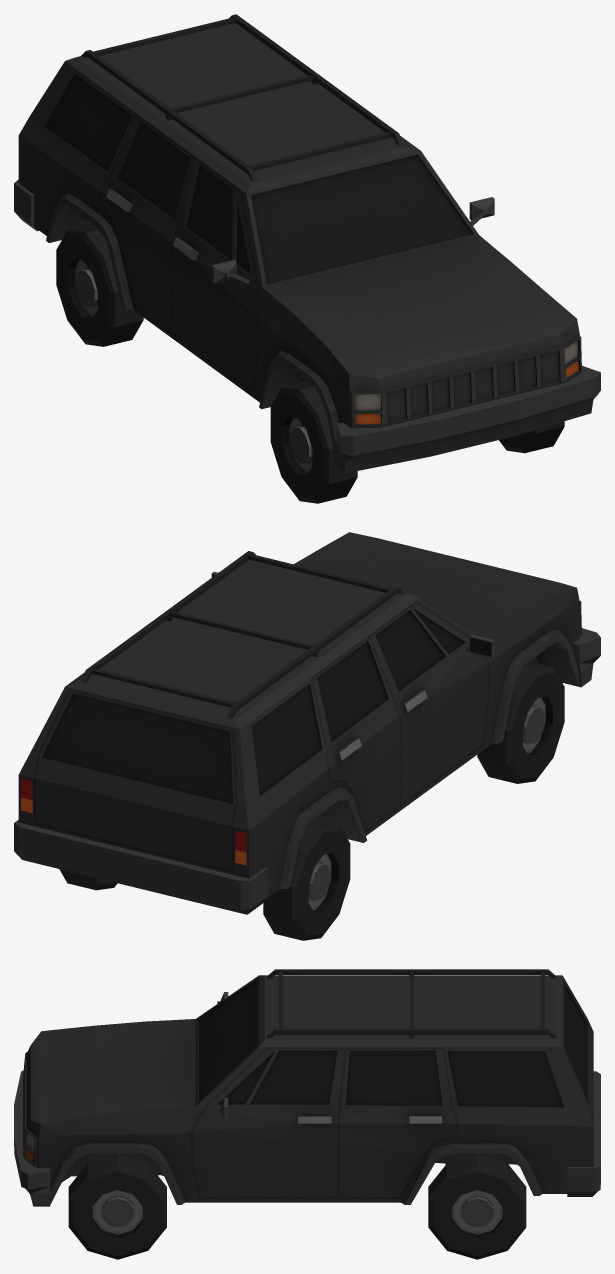
Rendered from Jeep.fbx.
The picture shows the model from 3 angles, top to bottom: view 1: azimuth 30°, elevation 25°; view 2: azimuth 150°, elevation 25°; view 3: azimuth 270°, elevation 25°; orthographic projection. The views are drawn at different scales.
Parts seen in each view (by area): view 1: Jeep_Body, Jeep_Wheel_Right (×2), Jeep_FrontBumper, Jeep_RoofRack, Jeep_Wheel_Left, Jeep_RearBumper; view 2: Jeep_Body, Jeep_Wheel_Right (×2), Jeep_RearBumper, Jeep_RoofRack, Jeep_FrontBumper, Jeep_Wheel_Left; view 3: Jeep_Body, Jeep_Wheel_Left (×2), Jeep_RoofRack, Jeep_FrontBumper, Jeep_RearBumper.
Boxes of the visible parts, x1=… form: Jeep_Body: x1=18, y1=23, x2=582, y2=450; Jeep_Wheel_Right (×2): x1=56, y1=224, x2=357, y2=503; Jeep_FrontBumper: x1=334, y1=365, x2=600, y2=473; Jeep_RoofRack: x1=81, y1=14, x2=403, y2=181; Jeep_Wheel_Left: x1=499, y1=421, x2=564, y2=453; Jeep_RearBumper: x1=14, y1=179, x2=38, y2=231; Jeep_Body: x1=18, y1=532, x2=582, y2=897; Jeep_Wheel_Right (×2): x1=263, y1=661, x2=564, y2=940; Jeep_RearBumper: x1=14, y1=820, x2=268, y2=914; Jeep_RoofRack: x1=81, y1=551, x2=403, y2=718; Jeep_FrontBumper: x1=561, y1=628, x2=600, y2=687; Jeep_Wheel_Left: x1=59, y1=869, x2=117, y2=890; Jeep_Body: x1=22, y1=975, x2=593, y2=1204; Jeep_Wheel_Left (×2): x1=68, y1=1154, x2=526, y2=1259; Jeep_RoofRack: x1=267, y1=969, x2=556, y2=1038; Jeep_FrontBumper: x1=14, y1=1070, x2=50, y2=1206; Jeep_RearBumper: x1=567, y1=1071, x2=600, y2=1196.
Bounding box in the file's own units: 6.59 × 5.65 × 14.23.
